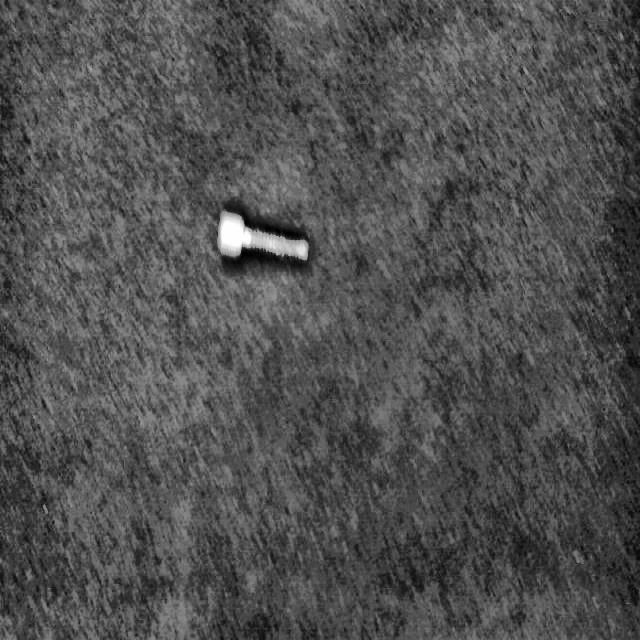Socket head cap screw: (211, 201, 316, 273)
